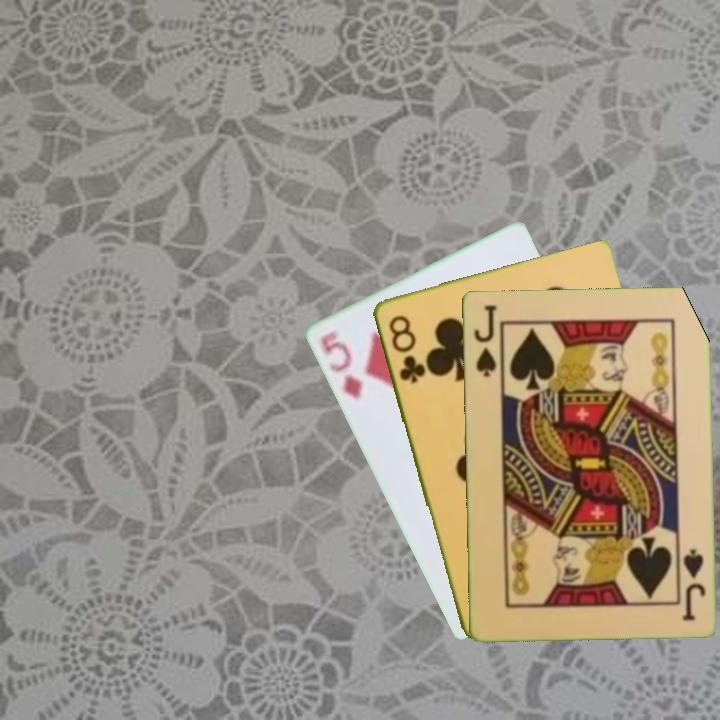5d: (316, 327, 365, 402)
8c: (384, 311, 427, 387)
Js: (678, 545, 708, 623), (470, 300, 499, 379)
